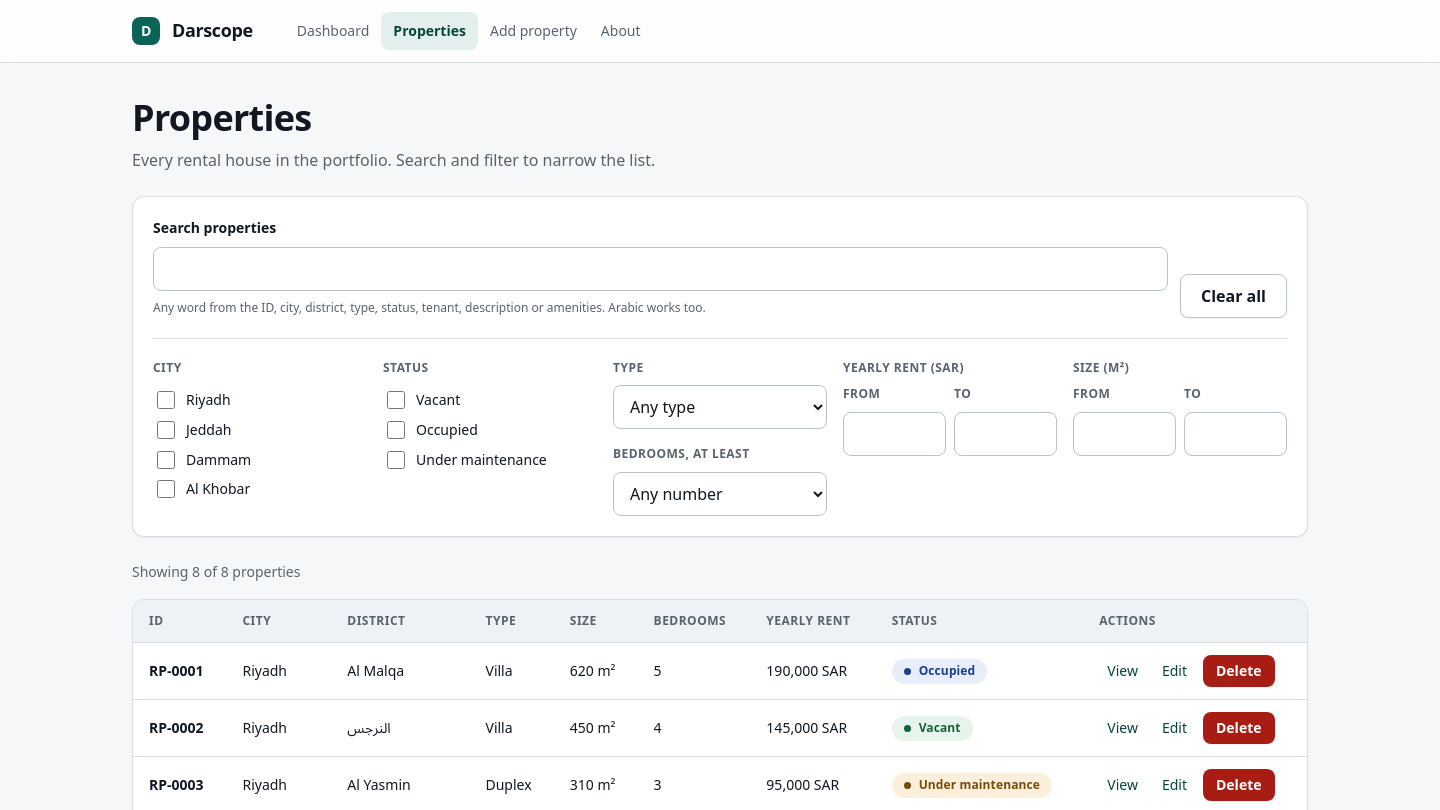
AC-13 a range the wrong way round (FR-SRC-07) › explains a backwards size range too
In the field labelled "From" below "Size (m²)": coordinates (1124, 434) [1073,412,1176,456], type "600"
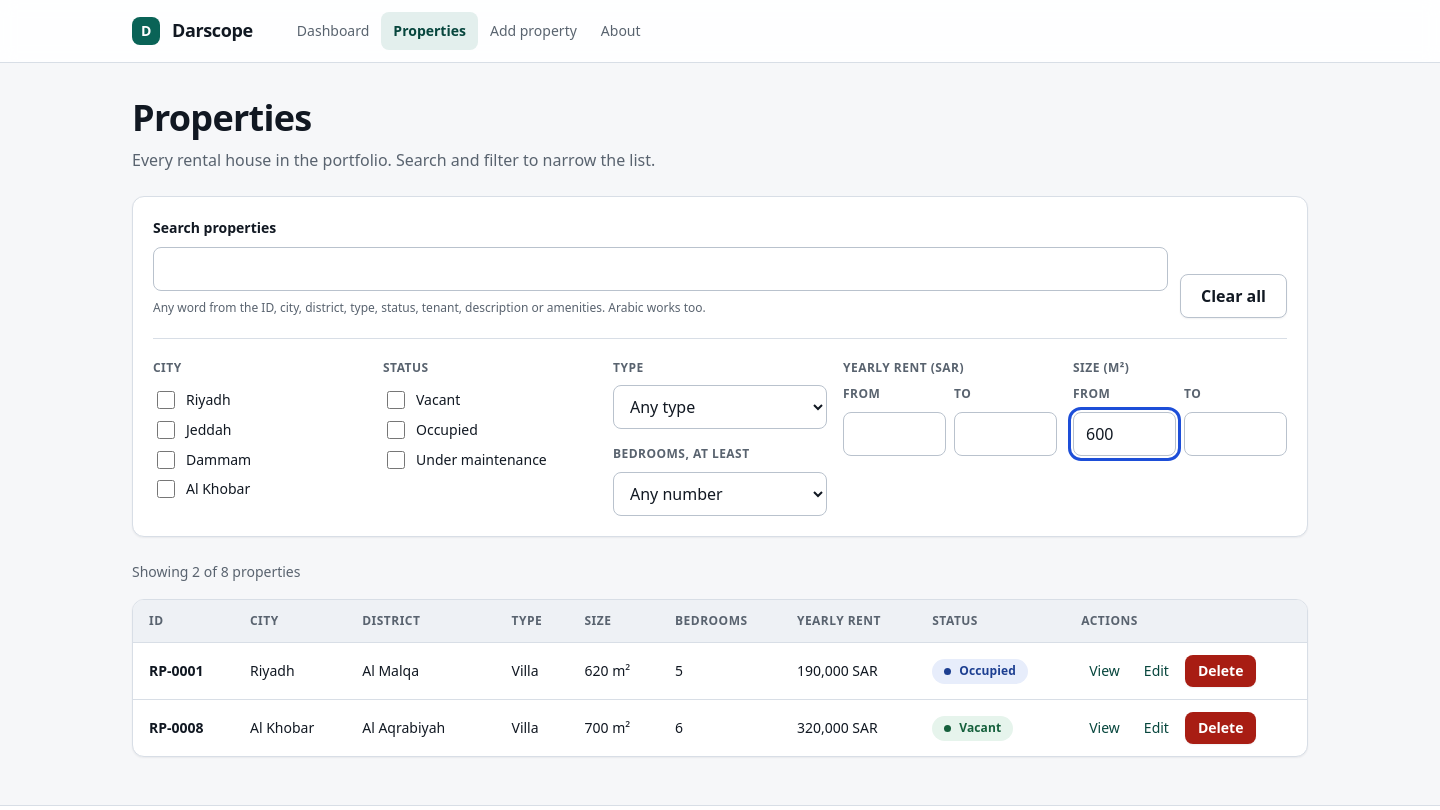
In the field labelled "To" below "Size (m²)": coordinates (1236, 434) [1184,412,1287,456], type "300"
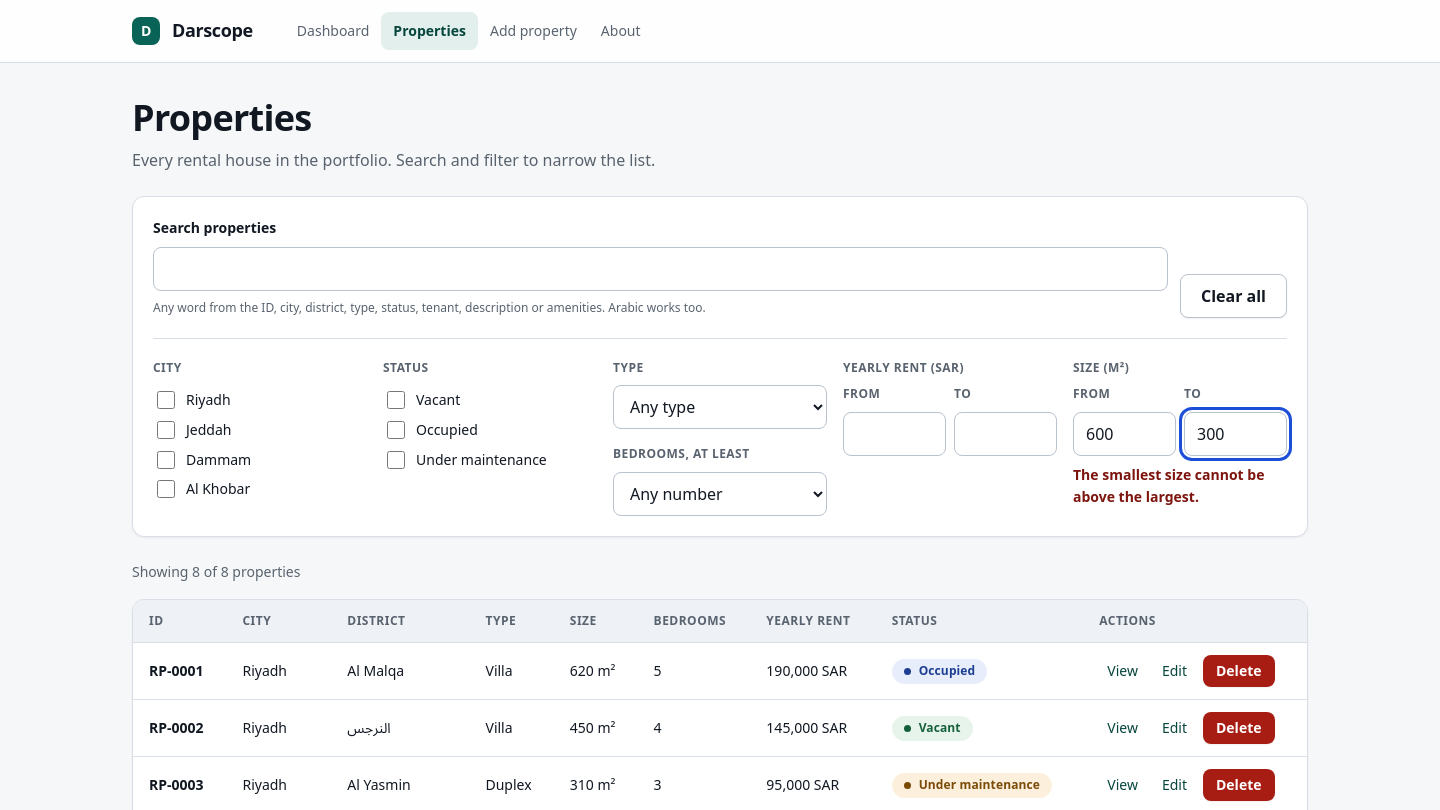
Result: the text "The smallest size cannot be above the largest." is shown at [1073,464,1287,507]
